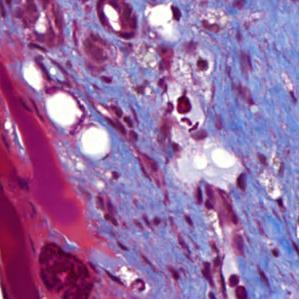steatosis: (209, 145, 238, 171)
